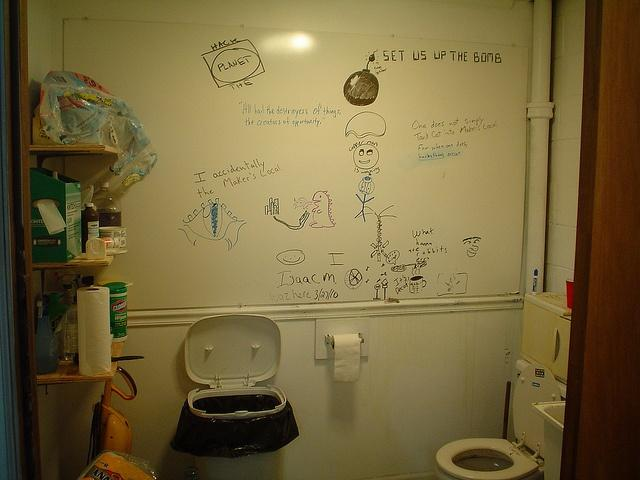Whiteboard: (60, 15, 529, 311)
